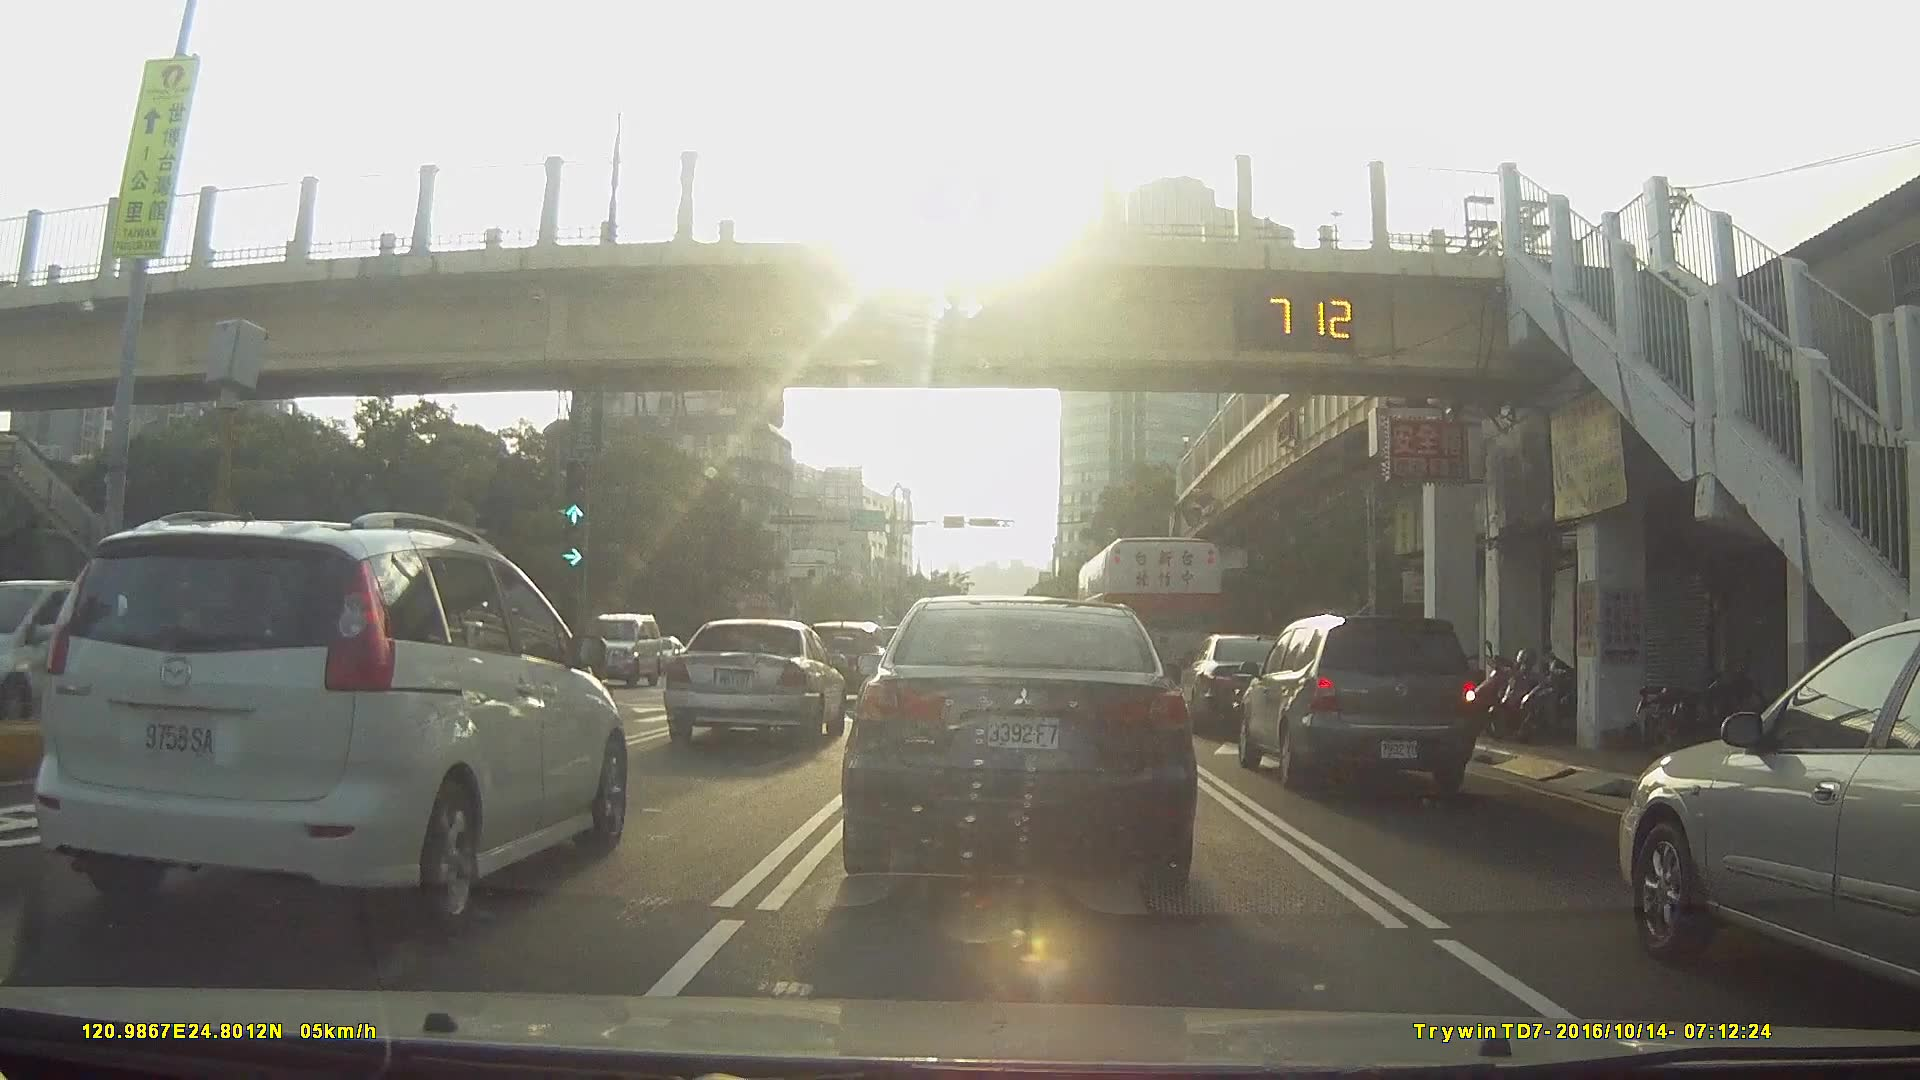vehicle: (30, 509, 628, 927), (1607, 615, 1920, 1021), (840, 589, 1193, 911), (1232, 609, 1476, 795), (1073, 534, 1221, 700), (661, 616, 845, 746), (1171, 629, 1298, 732), (564, 607, 669, 684), (785, 611, 876, 691), (636, 632, 692, 676)
